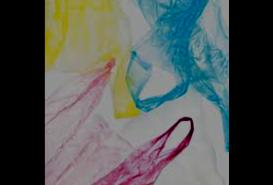Plastic: (45, 51, 198, 184)
